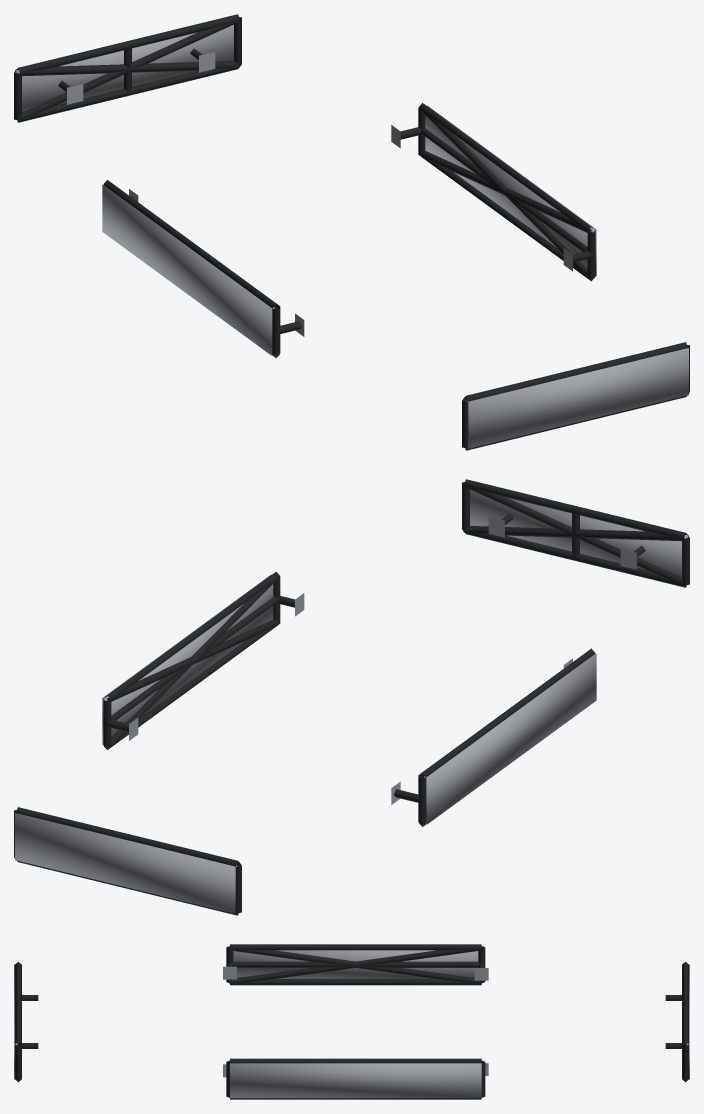
The model's file is ashby_condor_protecao.glb.
3 renders of one model, top to bottom at view 1: azimuth 30°, elevation 25°; view 2: azimuth 150°, elevation 25°; view 3: azimuth 270°, elevation 25°, orthographic. The views are drawn at different scales.
Parts seen in each view (by area): view 1: Protection_front_Level3_Details, Protection_left_Level3_Details, Protection_rear_Level1_Details, Protection_rear_Level3_Details, Protection_right_Level1_Details, Protection_right_Level2_Details, Protection_rear_Level2_Details, Protection_right_Level3_Details, Protection_front_Level1_Details, Protection_left_Level1_Details; view 2: Protection_rear_Level3_Details, Protection_left_Level3_Details, Protection_front_Level1_Details, Protection_front_Level3_Details, Protection_right_Level1_Details, Protection_right_Level2_Details, Protection_right_Level3_Details, Protection_front_Level2_Details, Protection_rear_Level1_Details, Protection_left_Level1_Details; view 3: Protection_right_Level3_Details, Protection_left_Level2_Details, Protection_left_Level1_Details, Protection_left_Level3_Details, Protection_right_Level1_Details, Protection_rear_Level1_Details, Protection_front_Level1_Details.
Part boxes in pixels (x1,y1,x2,y2): Protection_front_Level3_Details: (467,348,688,448); Protection_left_Level3_Details: (102,185,274,355); Protection_rear_Level1_Details: (14,14,241,122); Protection_rear_Level3_Details: (15,24,233,112); Protection_right_Level1_Details: (391,103,595,281); Protection_right_Level2_Details: (419,108,593,280); Protection_rear_Level2_Details: (16,20,239,121); Protection_right_Level3_Details: (425,105,596,275); Protection_front_Level1_Details: (462,342,689,450); Protection_left_Level1_Details: (103,180,304,358); Protection_rear_Level3_Details: (15,813,236,913); Protection_left_Level3_Details: (424,653,596,824); Protection_front_Level1_Details: (462,479,689,587); Protection_front_Level3_Details: (470,489,688,577); Protection_right_Level1_Details: (103,571,304,749); Protection_right_Level2_Details: (104,577,279,749); Protection_right_Level3_Details: (102,574,273,744); Protection_front_Level2_Details: (464,485,687,586); Protection_rear_Level1_Details: (14,807,241,915); Protection_left_Level1_Details: (391,648,595,826); Protection_right_Level3_Details: (230,1063,481,1098); Protection_left_Level2_Details: (229,947,481,983); Protection_left_Level1_Details: (223,944,488,985); Protection_left_Level3_Details: (233,950,478,978); Protection_right_Level1_Details: (223,1058,488,1099); Protection_rear_Level1_Details: (665,961,688,1082); Protection_front_Level1_Details: (15,961,38,1082).
Bounding box in the file's own units: 2.19 × 0.354 × 5.29.
Materials: 1 (1 with a texture image).
